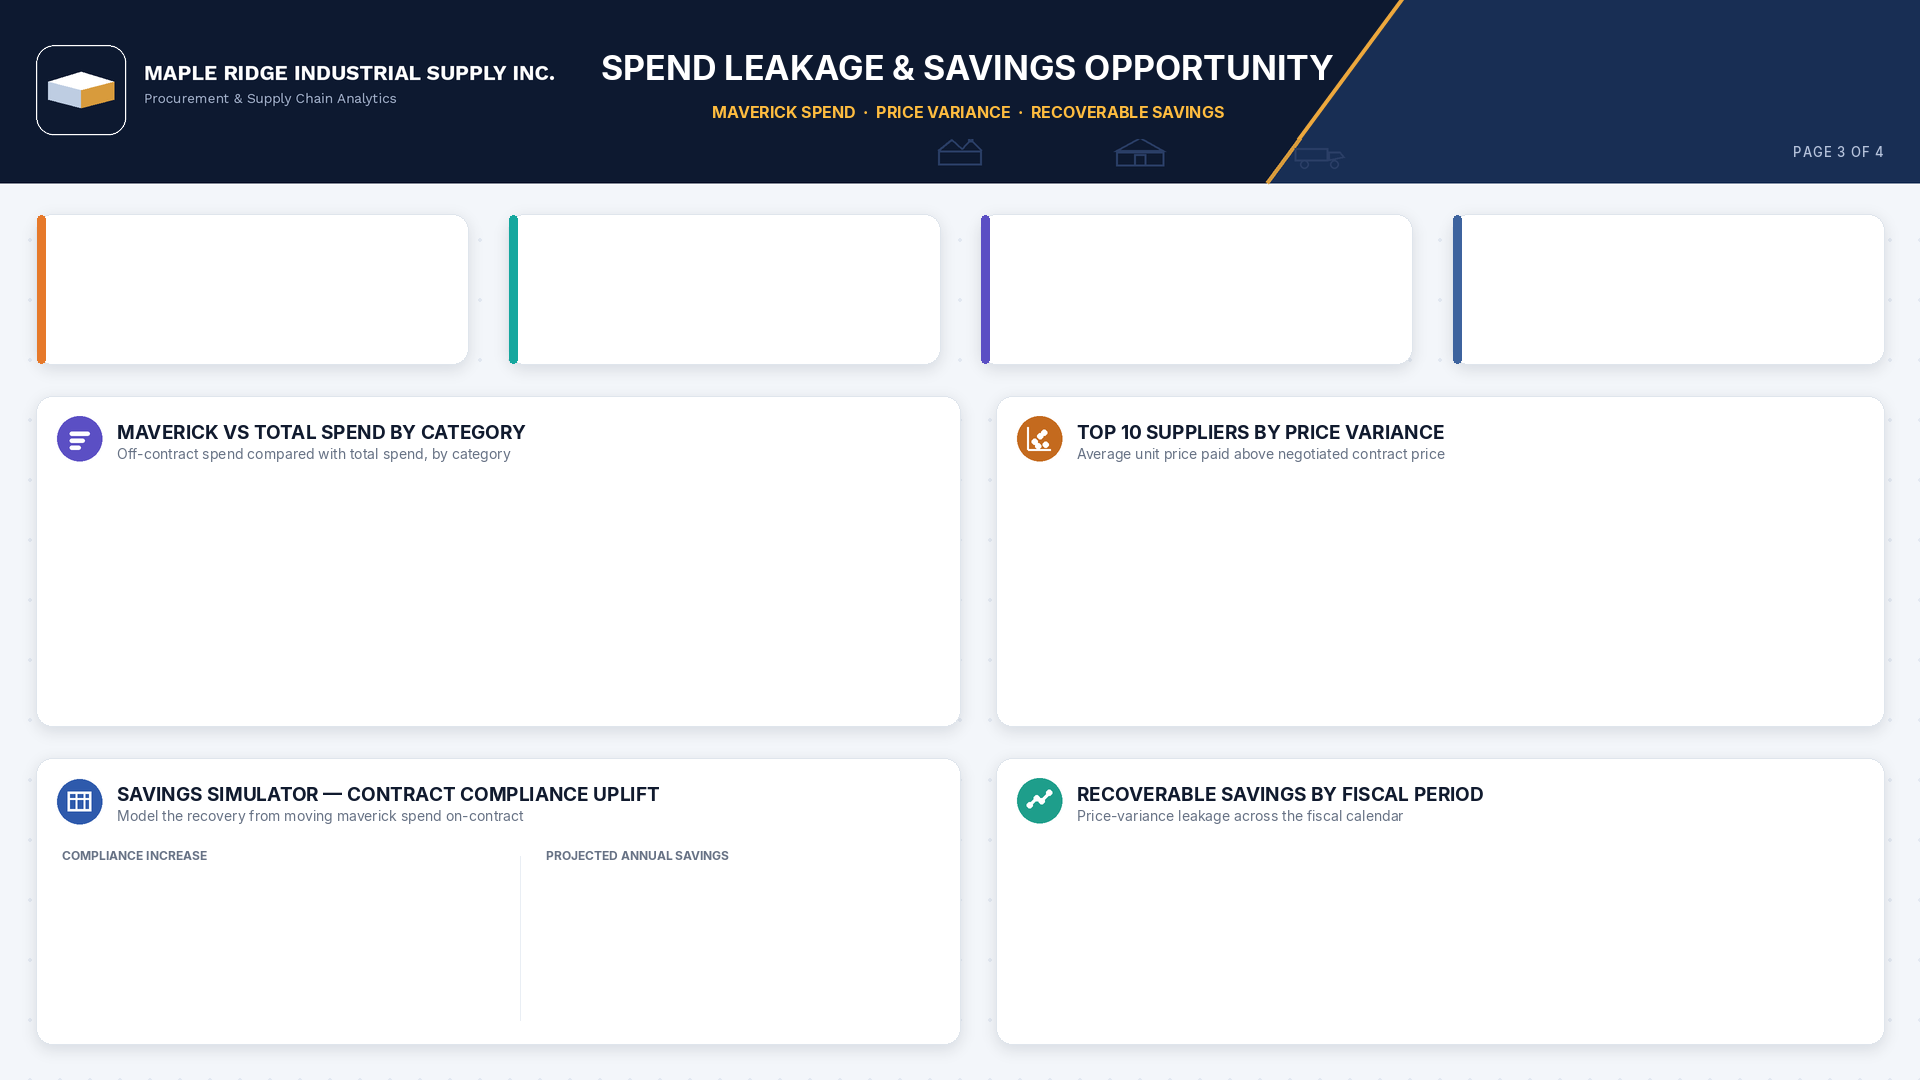

The dashboard page shown, as its layout file describes it:
{"tool":"powerbi","page":{"name":"Spend Leakage & Savings","canvas":[1920,1080],"ordinal":2},"visuals":[{"type":"cardVisual","fields":{"Data":["Measure_Table.Cost Savings Opportunity"]},"box":[50,220,408,138],"z":0},{"type":"cardVisual","fields":{"Data":["Measure_Table.Cost Savings % of Spend"]},"box":[522,220,408,138],"z":1000},{"type":"cardVisual","fields":{"Data":["Measure_Table.Maverick Spend"]},"box":[994,220,408,138],"z":2000},{"type":"cardVisual","fields":{"Data":["Measure_Table.Maverick Spend %"]},"box":[1466,220,408,138],"z":3000},{"type":"clusteredBarChart","fields":{"Category":["Dim_Category.Category"],"Y":["Measure_Table.Maverick Spend","Measure_Table.Total Spend"]},"box":[50,480,896,232],"z":4000},{"type":"clusteredBarChart","fields":{"Category":["Dim_Supplier.Supplier_Name"],"Y":["Measure_Table.Avg Price Variance %"]},"box":[1010,480,860,232],"z":5000},{"type":"slicer","fields":{"Values":["Contract Compliance Increase.Contract Compliance Increase"]},"box":[58,872,454,150],"z":6000},{"type":"cardVisual","fields":{"Data":["Measure_Table.Projected Savings from Compliance"]},"box":[542,868,396,154],"z":7000},{"type":"lineChart","fields":{"Category":["Dim_Date.Fiscal_Period"],"Y":["Measure_Table.Cost Savings Opportunity"]},"box":[1010,842,860,188],"z":8000}]}

Visuals, with their boxes in screenshot pixels (x1, y1, x2, y2), scaled from the page's 1920x1080 canvas onto the 1920x1080 screenshot:
cardVisual - Measure_Table.Cost Savings Opportunity: box(50, 220, 458, 358)
cardVisual - Measure_Table.Cost Savings % of Spend: box(522, 220, 930, 358)
cardVisual - Measure_Table.Maverick Spend: box(994, 220, 1402, 358)
cardVisual - Measure_Table.Maverick Spend %: box(1466, 220, 1874, 358)
clusteredBarChart - Dim_Category.Category x Measure_Table.Maverick Spend: box(50, 480, 946, 712)
clusteredBarChart - Dim_Supplier.Supplier_Name x Measure_Table.Avg Price Variance %: box(1010, 480, 1870, 712)
slicer - Contract Compliance Increase.Contract Compliance Increase: box(58, 872, 512, 1022)
cardVisual - Measure_Table.Projected Savings from Compliance: box(542, 868, 938, 1022)
lineChart - Dim_Date.Fiscal_Period x Measure_Table.Cost Savings Opportunity: box(1010, 842, 1870, 1030)
